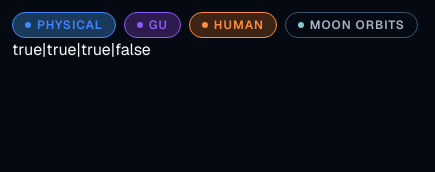
LayerToggles › toggles a layer off when clicked
Click the button "Physical" at (64, 25), box [12,12,116,38]
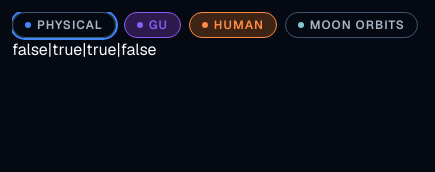
expect the text with test id "probe" reads "false|true|true|false": met, box [12,39,156,60]
